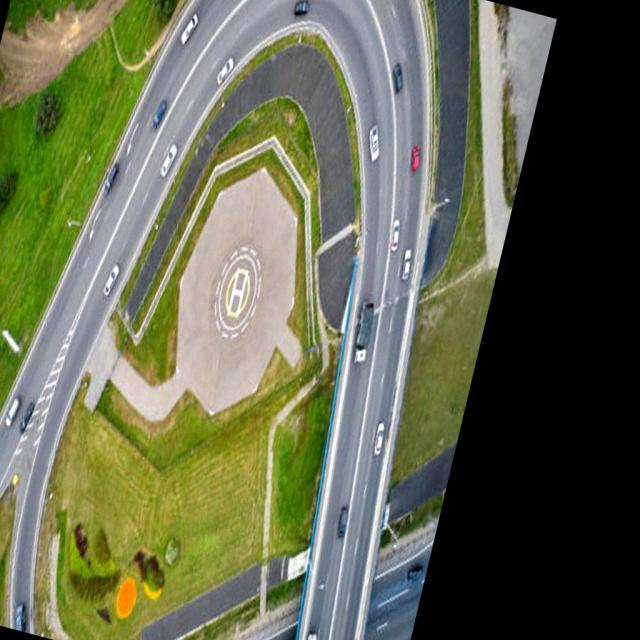helipad: (216, 253, 257, 330)
